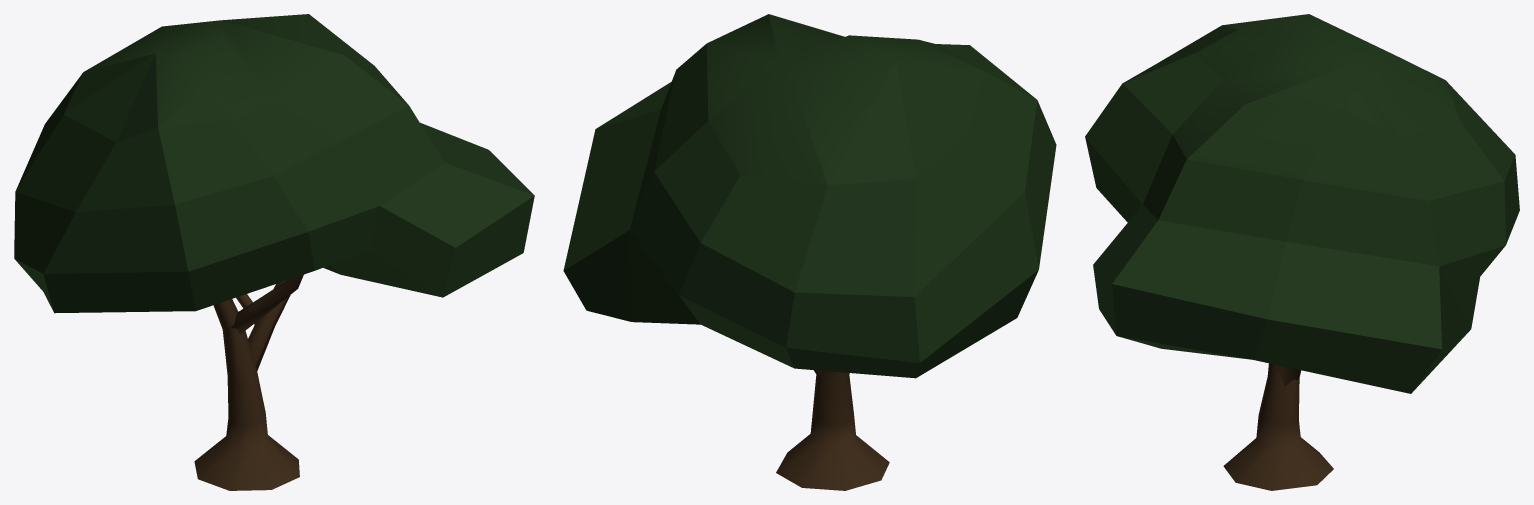
The model's file is lib-tree-oak-med-b.fbx.
The picture shows the model from 3 angles, left to right: view 1: azimuth 30°, elevation 25°; view 2: azimuth 150°, elevation 25°; view 3: azimuth 270°, elevation 25°; orthographic projection. The views are drawn at different scales.
Parts seen in each view (by area): view 1: pCube133; view 2: pCube133; view 3: pCube133.
Boxes of the visible parts, x1=… form: pCube133: x1=14, y1=14, x2=534, y2=490; pCube133: x1=563, y1=14, x2=1056, y2=490; pCube133: x1=1085, y1=14, x2=1519, y2=490.
Bounding box in the file's own units: 13.1 × 12.18 × 11.43.
